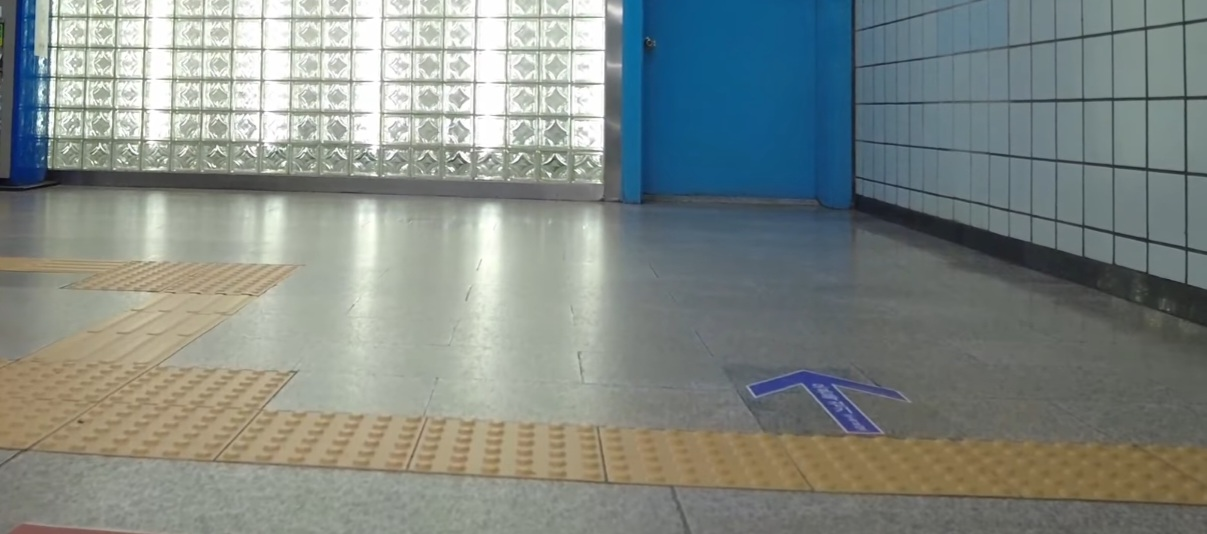warningBlock: (227, 394, 427, 490), (584, 423, 828, 499), (988, 430, 1199, 510), (412, 416, 594, 498), (789, 435, 982, 507), (65, 396, 245, 469), (1, 391, 117, 453), (8, 356, 138, 409), (142, 369, 281, 417)
